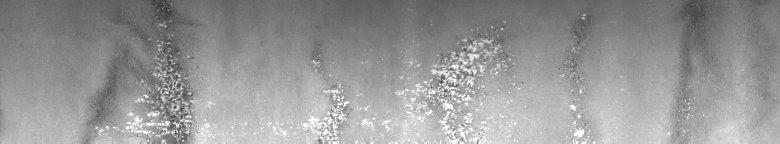hc: (95, 4, 198, 136)
